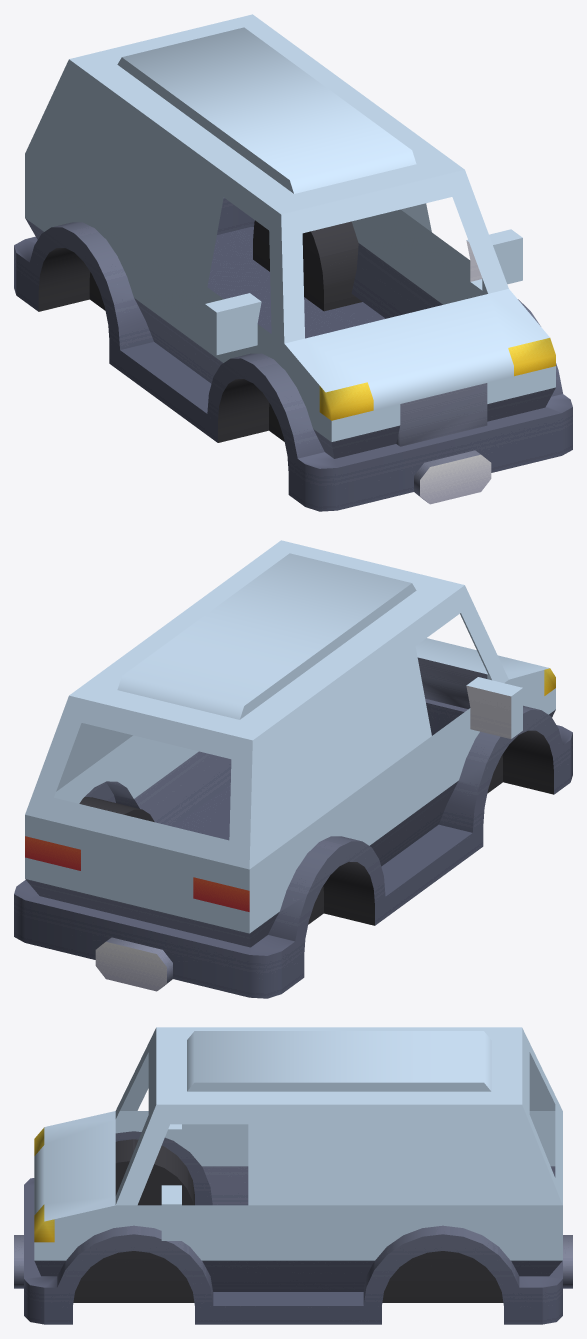
File: vanBodySkyblue.glb
3 views of the same model, one above another, from view 1: azimuth 30°, elevation 25°; view 2: azimuth 150°, elevation 25°; view 3: azimuth 270°, elevation 25° (orthographic). The views are drawn at different scales.
Parts seen in each view (by area): view 1: vanbody; view 2: vanbody; view 3: vanbody.
Boxes of the visible parts, x1,y1,x2,y2 form: vanbody: (14,14,572,511); vanbody: (14,540,572,998); vanbody: (14,1027,572,1324).
Bounding box in the file's own units: 1.5 × 1.2 × 2.75.
Materials: 1 (1 with a texture image).
